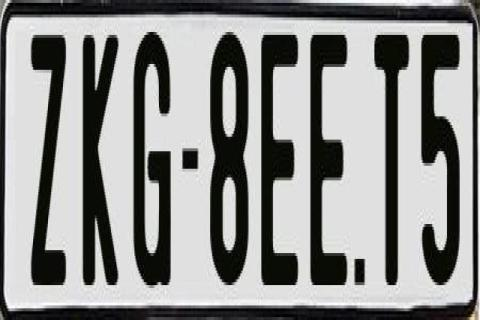0: (210, 26, 255, 294), (420, 26, 464, 276)
E: (309, 32, 351, 291), (258, 29, 296, 288)
G: (132, 32, 170, 300)
K: (84, 29, 118, 291)
T: (372, 35, 410, 285)
Z: (30, 35, 70, 297)
